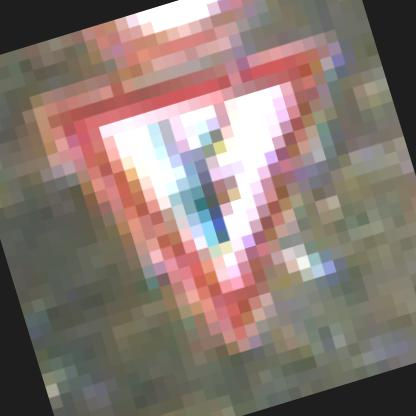crosswalk: (38, 19, 385, 366)
